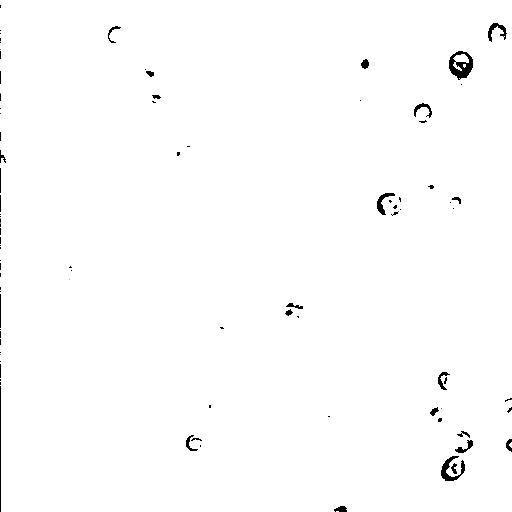micro-algae: (433, 433, 511, 511), (389, 24, 461, 104), (1, 215, 75, 285), (434, 24, 505, 93), (140, 1, 216, 40), (317, 213, 362, 259), (1, 52, 37, 98), (370, 13, 406, 53), (114, 148, 151, 185), (75, 251, 110, 287), (6, 479, 41, 512), (350, 45, 383, 79), (113, 339, 146, 369), (132, 55, 161, 84), (374, 190, 403, 219), (447, 50, 475, 80), (414, 171, 445, 198), (17, 1, 65, 18), (0, 138, 25, 169), (279, 304, 309, 328), (439, 455, 464, 482), (193, 397, 219, 421), (61, 262, 84, 289), (449, 429, 475, 452), (451, 79, 477, 102), (171, 138, 195, 162), (487, 21, 508, 45), (496, 399, 512, 428), (105, 25, 125, 45), (427, 403, 445, 425), (413, 102, 431, 124), (351, 95, 369, 115), (98, 500, 127, 512), (439, 371, 456, 391), (185, 435, 203, 452), (446, 194, 464, 211), (502, 435, 512, 453), (330, 503, 349, 511)
